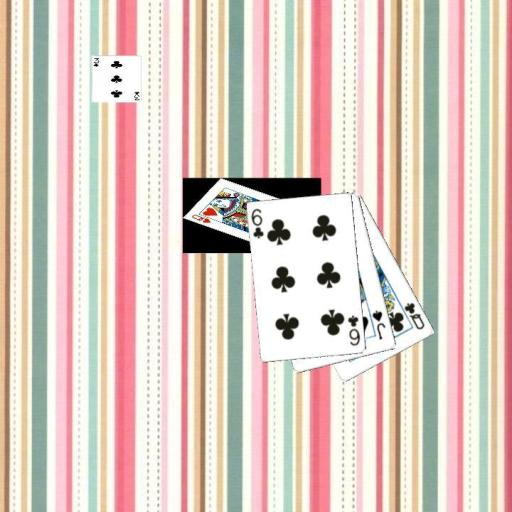6C: (345, 312, 362, 348), (248, 206, 265, 241)
JS: (369, 307, 388, 341)
QC: (401, 300, 427, 332)
